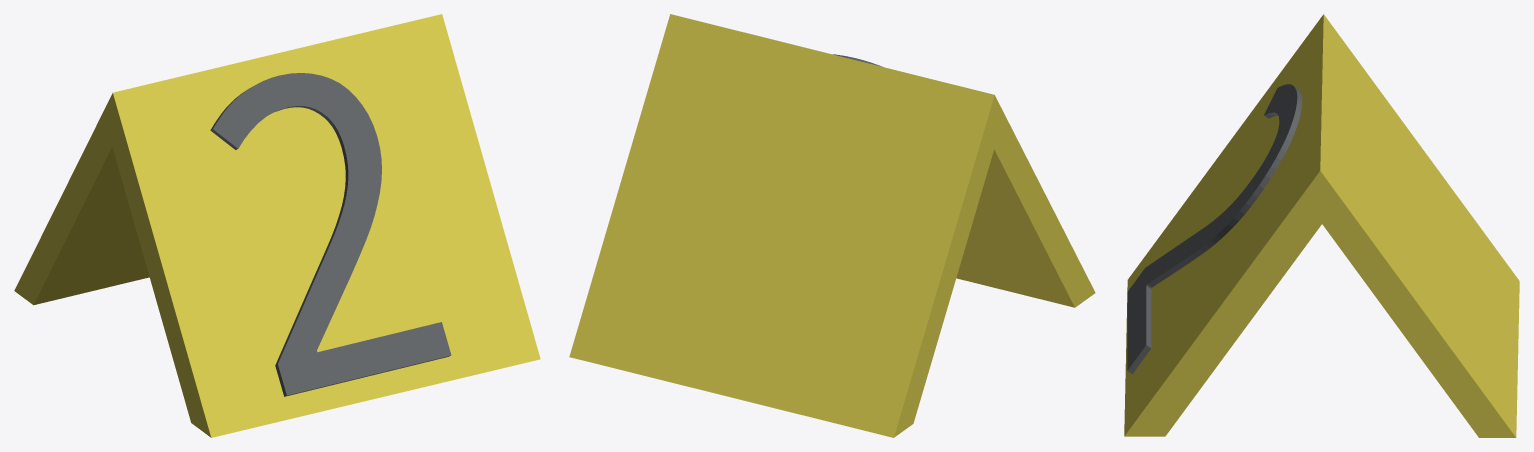
File: bord2.gltf
The picture shows the model from 3 angles, left to right: view 1: azimuth 30°, elevation 25°; view 2: azimuth 150°, elevation 25°; view 3: azimuth 270°, elevation 25°; orthographic projection.
Parts seen in each view (by area): view 1: Mesh_Mesh_head_geo.001_lambert2SG.001; view 2: Mesh_Mesh_head_geo.001_lambert2SG.001; view 3: Mesh_Mesh_head_geo.001_lambert2SG.001.
Boxes of the visible parts, left/top/right/bottom form: Mesh_Mesh_head_geo.001_lambert2SG.001: left=14, top=14, right=540, bottom=437; Mesh_Mesh_head_geo.001_lambert2SG.001: left=569, top=14, right=1095, bottom=437; Mesh_Mesh_head_geo.001_lambert2SG.001: left=1124, top=14, right=1519, bottom=437.
Size of the model in its own units: 19.09 by 15 by 20.17.
